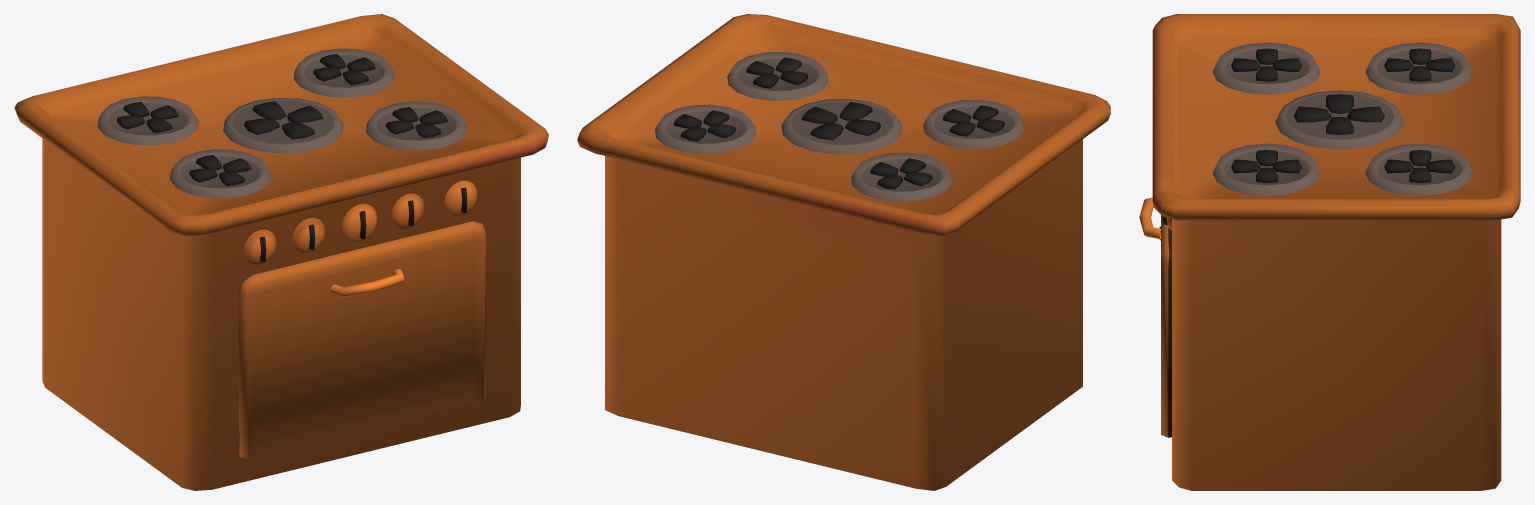
Rendered from Fogao.fbx.
The picture shows the model from 3 angles, left to right: view 1: azimuth 30°, elevation 25°; view 2: azimuth 150°, elevation 25°; view 3: azimuth 270°, elevation 25°; orthographic projection. The views are drawn at different scales.
Visible parts, largest first — view 1: Fogão; view 2: Fogão; view 3: Fogão.
Part boxes in pixels (left/top/right/bottom): Fogão: left=14, top=14, right=548, bottom=490; Fogão: left=577, top=14, right=1110, bottom=490; Fogão: left=1139, top=14, right=1520, bottom=490.
Size of the model in its own units: 142 by 101 by 117.
Materials: 1 (1 with a texture image).
